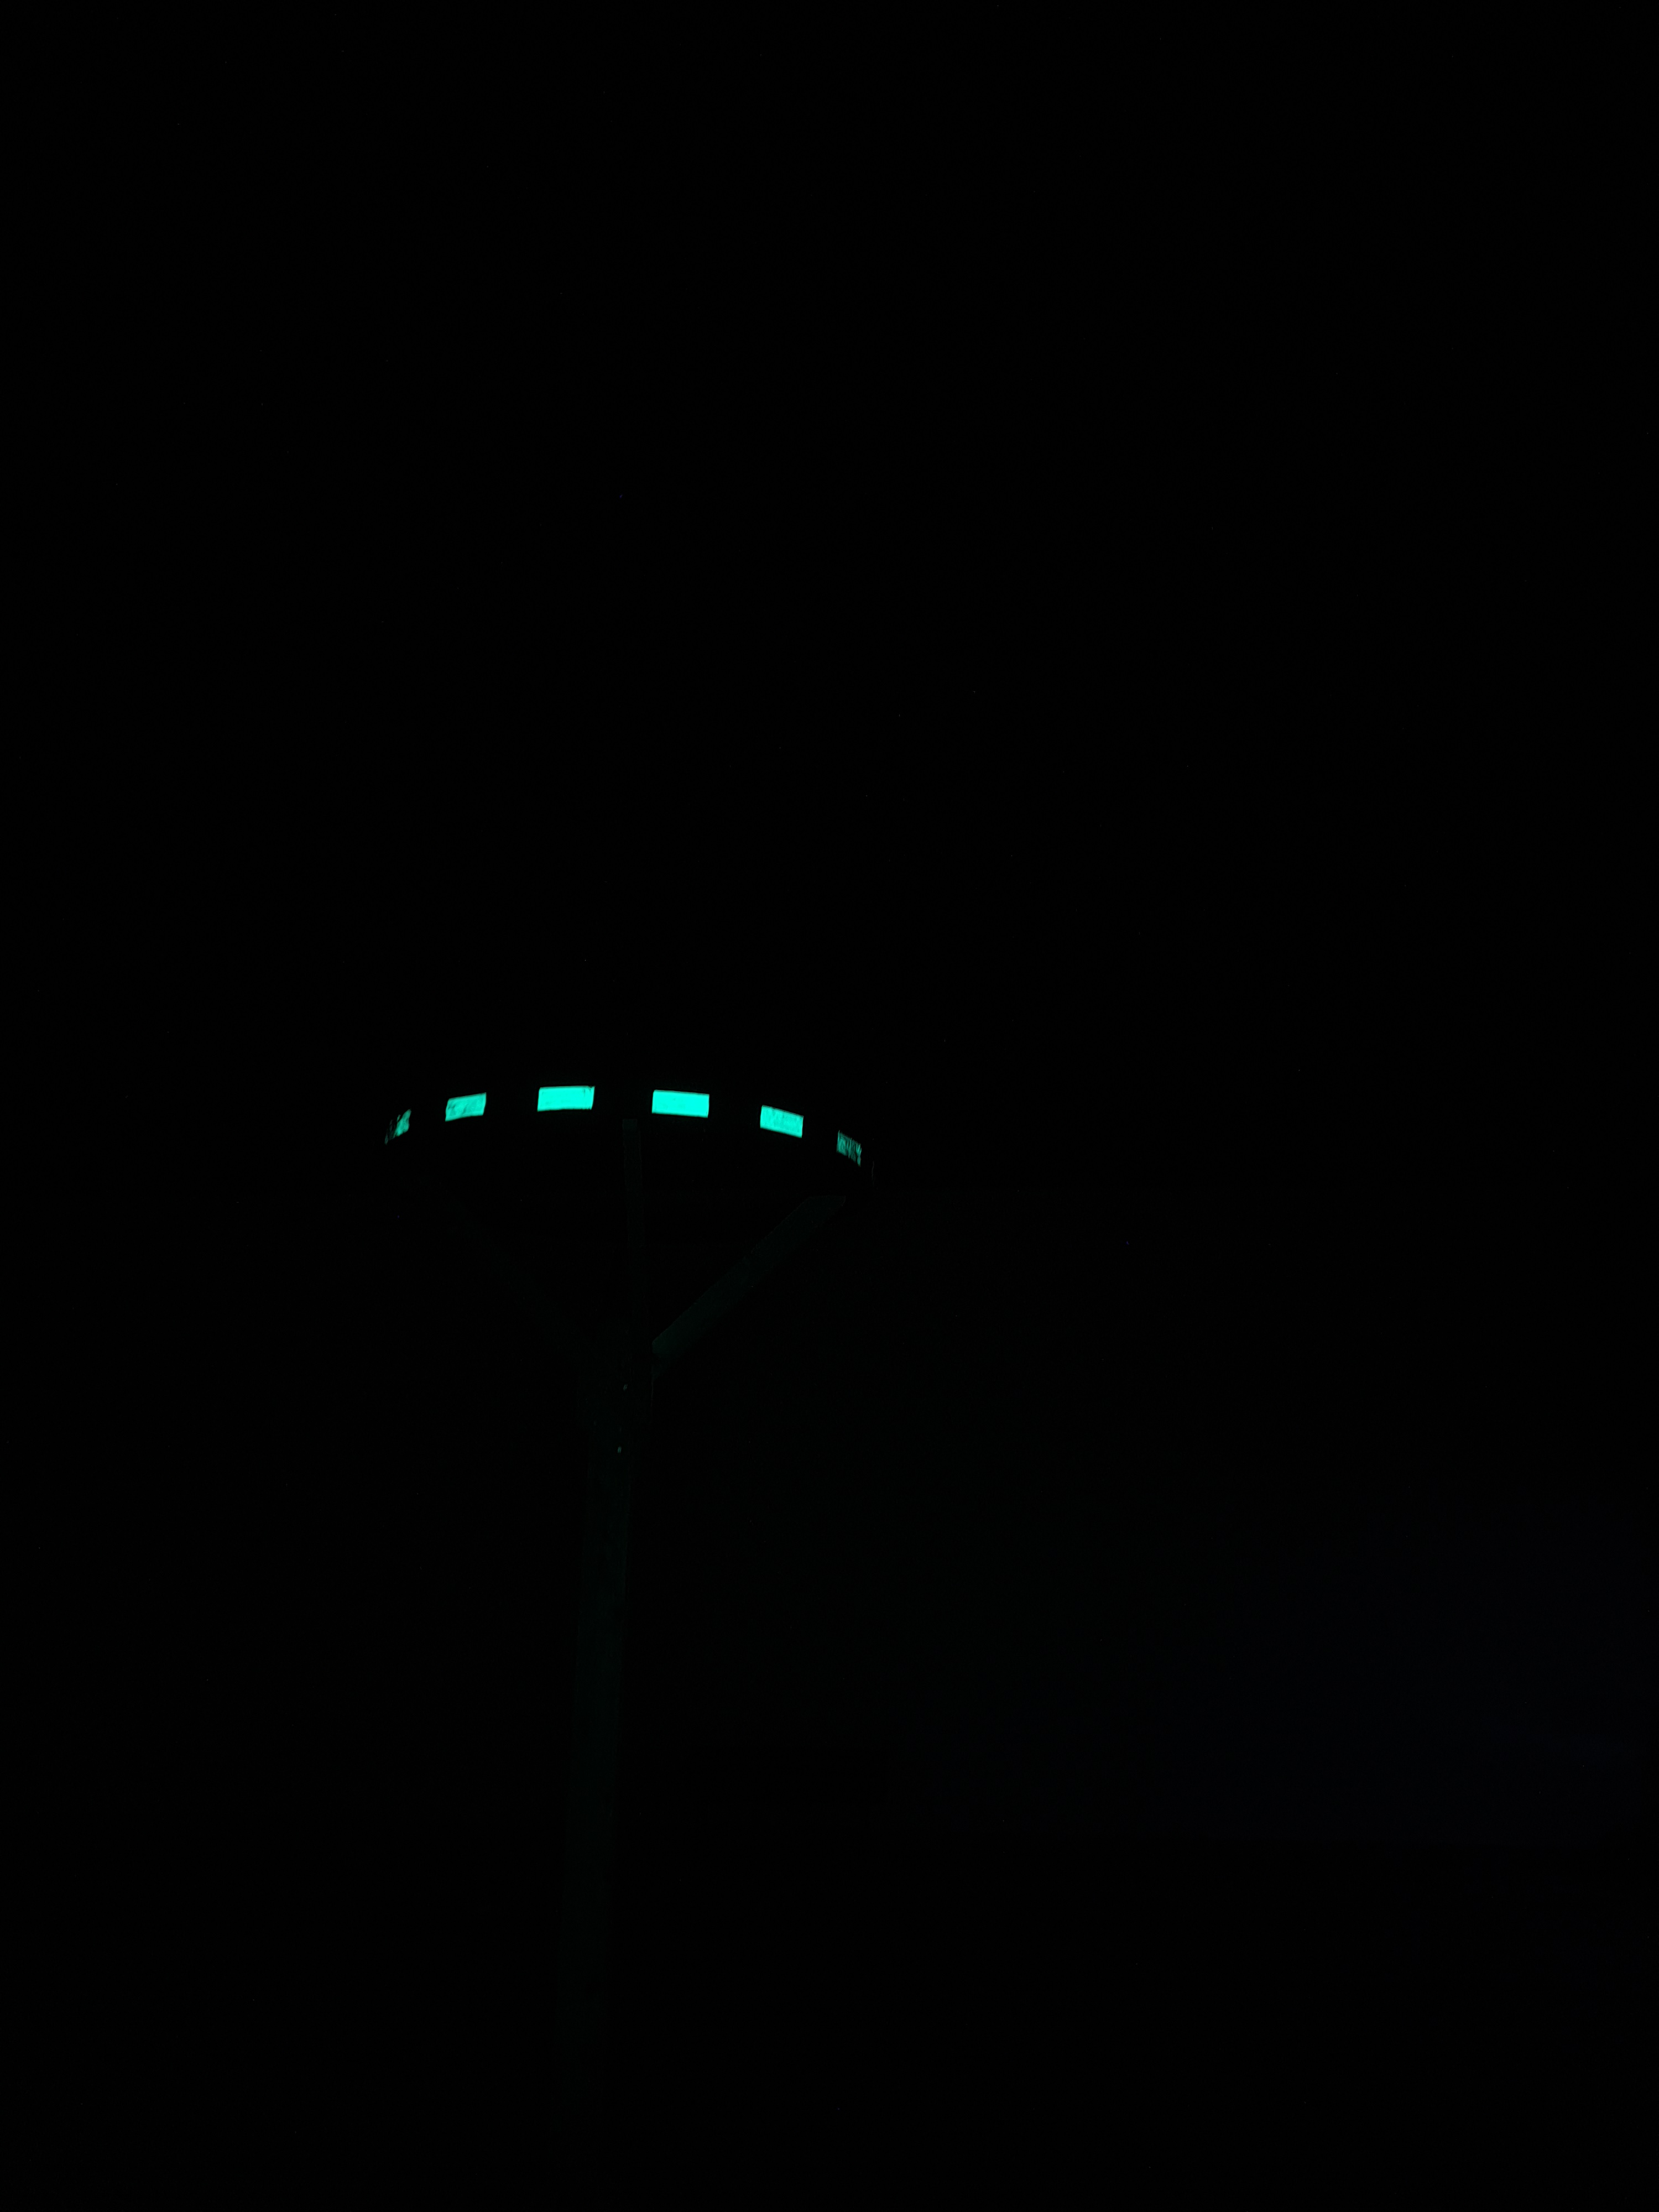hoop: (366, 1075, 868, 1179)
